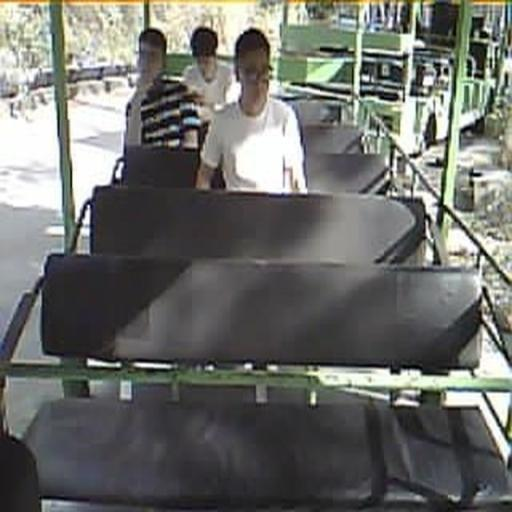persona: (196, 27, 308, 193), (122, 27, 203, 158), (181, 26, 236, 108)
